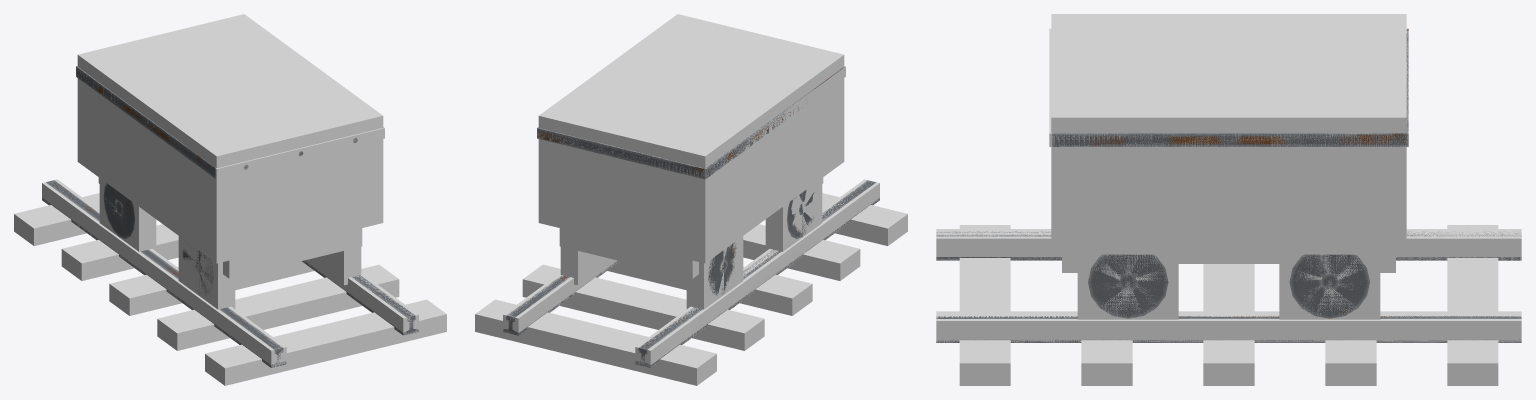
File: mine_cart.glb
3 renders of one model, left to right at view 1: azimuth 30°, elevation 25°; view 2: azimuth 150°, elevation 25°; view 3: azimuth 270°, elevation 25°, orthographic. The views are drawn at different scales.
Parts seen in each view (by area): view 1: COL_mine_cart_21, COL_mine_cart_04, COL_mine_cart_03, COL_mine_cart_06, COL_mine_cart_02, COL_mine_cart_19, COL_mine_cart_01, COL_mine_cart_08, COL_mine_cart_23, COL_mine_cart_00, rail_left, COL_mine_cart_05 (+5 smaller); view 2: COL_mine_cart_21, COL_mine_cart_00, COL_mine_cart_01, COL_mine_cart_06, band_high_band, COL_mine_cart_02, COL_mine_cart_20, COL_mine_cart_03, COL_mine_cart_08, COL_mine_cart_04, COL_mine_cart_23, COL_mine_cart_10 (+6 smaller); view 3: COL_mine_cart_21, COL_mine_cart_05, COL_mine_cart_06, COL_mine_cart_00, COL_mine_cart_04, band_high_band, COL_mine_cart_02, wheel_front_right, wheel_back_right, COL_mine_cart_07, COL_mine_cart_09, COL_mine_cart_23 (+5 smaller).
Boxes of the visible parts, box(x1,y1,x2,y2) form: COL_mine_cart_21: box(77, 14, 383, 263); COL_mine_cart_04: box(205, 299, 446, 385); COL_mine_cart_03: box(157, 264, 399, 350); COL_mine_cart_06: box(42, 179, 286, 367); COL_mine_cart_02: box(109, 261, 314, 315); COL_mine_cart_19: box(223, 228, 362, 278); COL_mine_cart_01: box(61, 224, 178, 280); COL_mine_cart_08: box(178, 236, 235, 309); COL_mine_cart_23: box(76, 66, 384, 179); COL_mine_cart_00: box(14, 193, 99, 245); rail_left: box(42, 180, 286, 367); COL_mine_cart_05: box(302, 259, 418, 335); COL_mine_cart_21: box(538, 14, 844, 263); COL_mine_cart_00: box(475, 299, 716, 385); COL_mine_cart_01: box(522, 264, 764, 350); COL_mine_cart_06: box(635, 179, 879, 366); band_high_band: box(537, 67, 844, 179); COL_mine_cart_02: box(607, 261, 812, 315); COL_mine_cart_20: box(559, 228, 698, 278); COL_mine_cart_03: box(743, 224, 860, 280); COL_mine_cart_08: box(765, 178, 822, 251); COL_mine_cart_04: box(822, 193, 907, 245); COL_mine_cart_23: box(537, 66, 845, 178); COL_mine_cart_10: box(686, 236, 743, 309); COL_mine_cart_21: box(1051, 14, 1406, 254); COL_mine_cart_05: box(936, 311, 1521, 342); COL_mine_cart_06: box(936, 229, 1521, 260); COL_mine_cart_00: box(1447, 225, 1498, 385); COL_mine_cart_04: box(959, 225, 1010, 385); band_high_band: box(1052, 28, 1408, 146); COL_mine_cart_02: box(1203, 264, 1254, 385); wheel_front_right: box(1088, 254, 1168, 318); wheel_back_right: box(1289, 254, 1369, 318); COL_mine_cart_07: box(1077, 254, 1178, 319); COL_mine_cart_09: box(1279, 254, 1380, 319); COL_mine_cart_23: box(1049, 28, 1408, 146).
Bounding box in the file's own units: 1.01 × 0.8516 × 1.8.
Materials: 3 (3 with a texture image).
